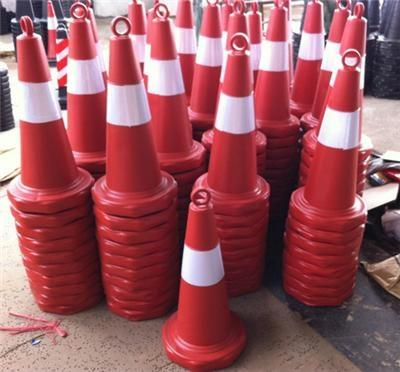cone_barrel: (6, 15, 81, 193), (164, 193, 242, 354), (301, 48, 366, 210), (102, 20, 160, 193), (204, 36, 261, 199), (145, 9, 195, 161), (60, 7, 107, 165), (253, 0, 291, 136), (288, 3, 327, 111), (188, 6, 223, 121)
